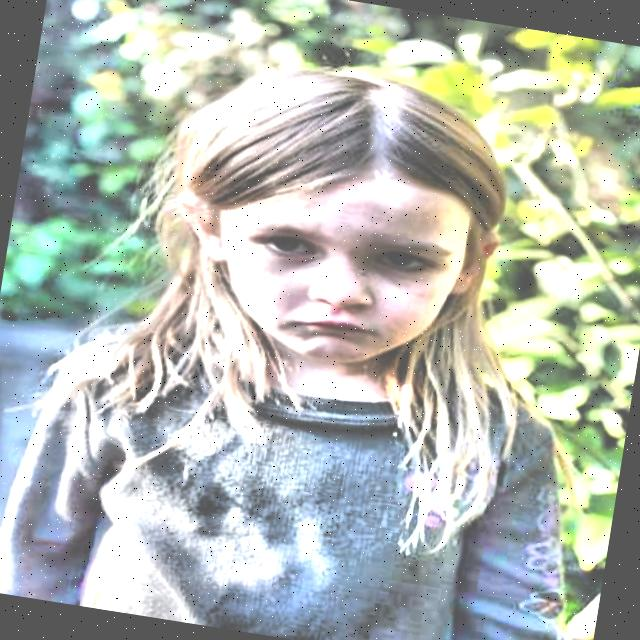sad: (115, 33, 534, 401)
